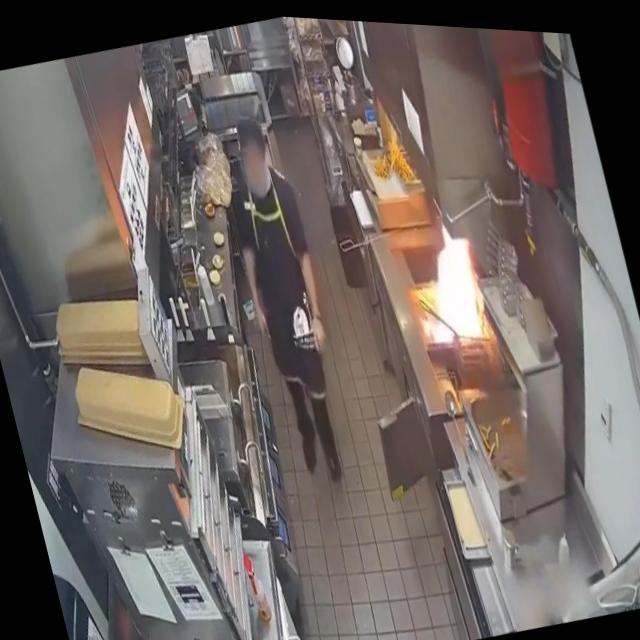fire: (414, 203, 496, 342)
